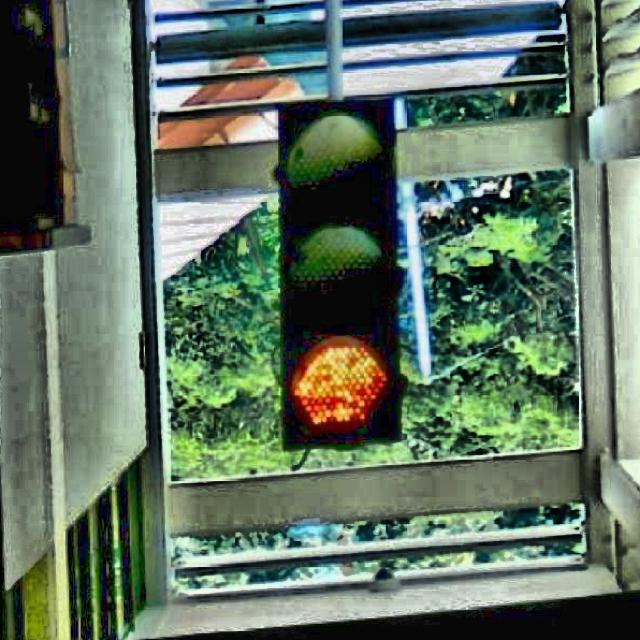red: (262, 99, 402, 446)
